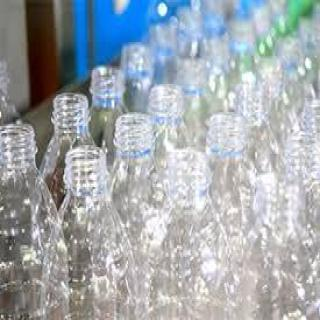Plastic-bottle: (41, 142, 139, 320), (141, 148, 233, 320), (1, 121, 72, 320), (36, 94, 104, 209)
